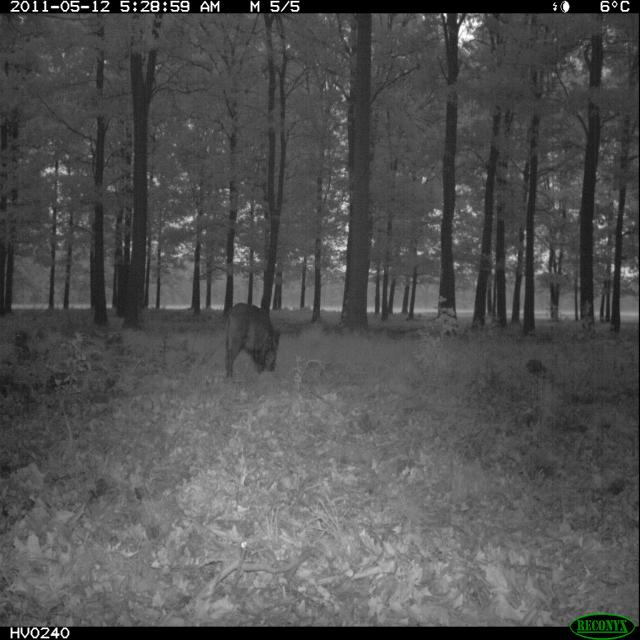boar: (192, 300, 306, 400)
